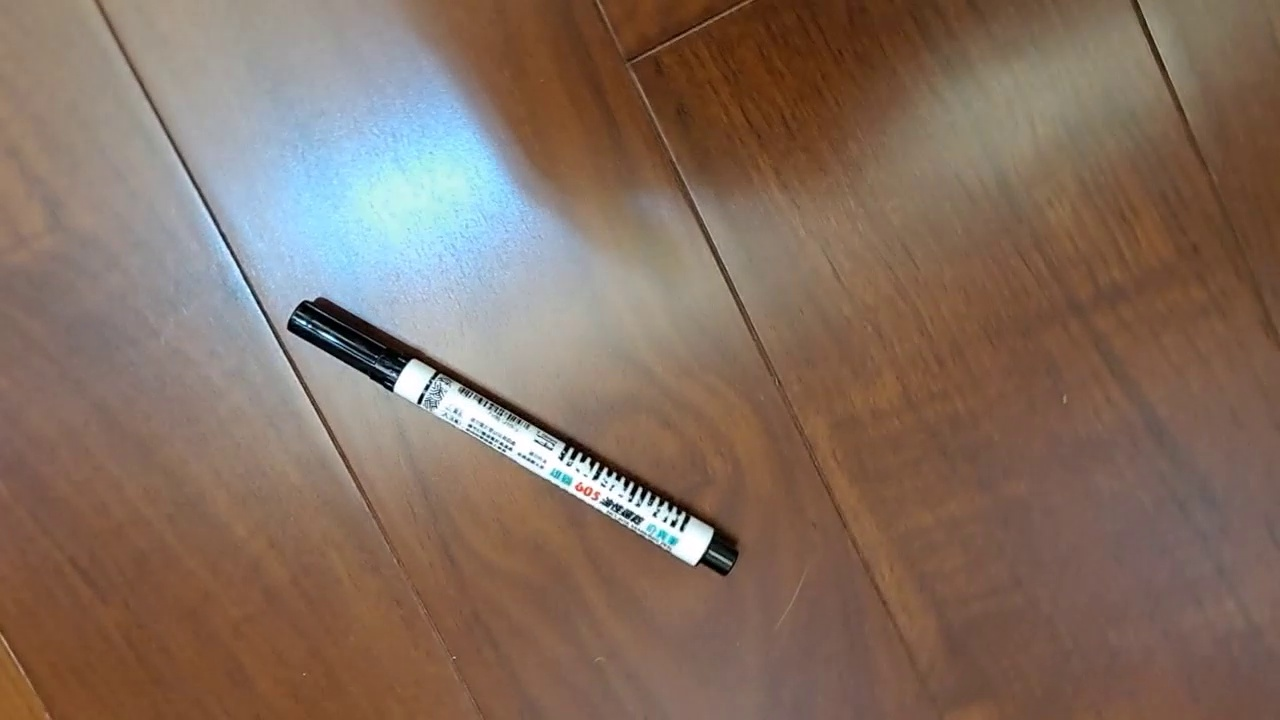pen: (286, 295, 740, 578)
